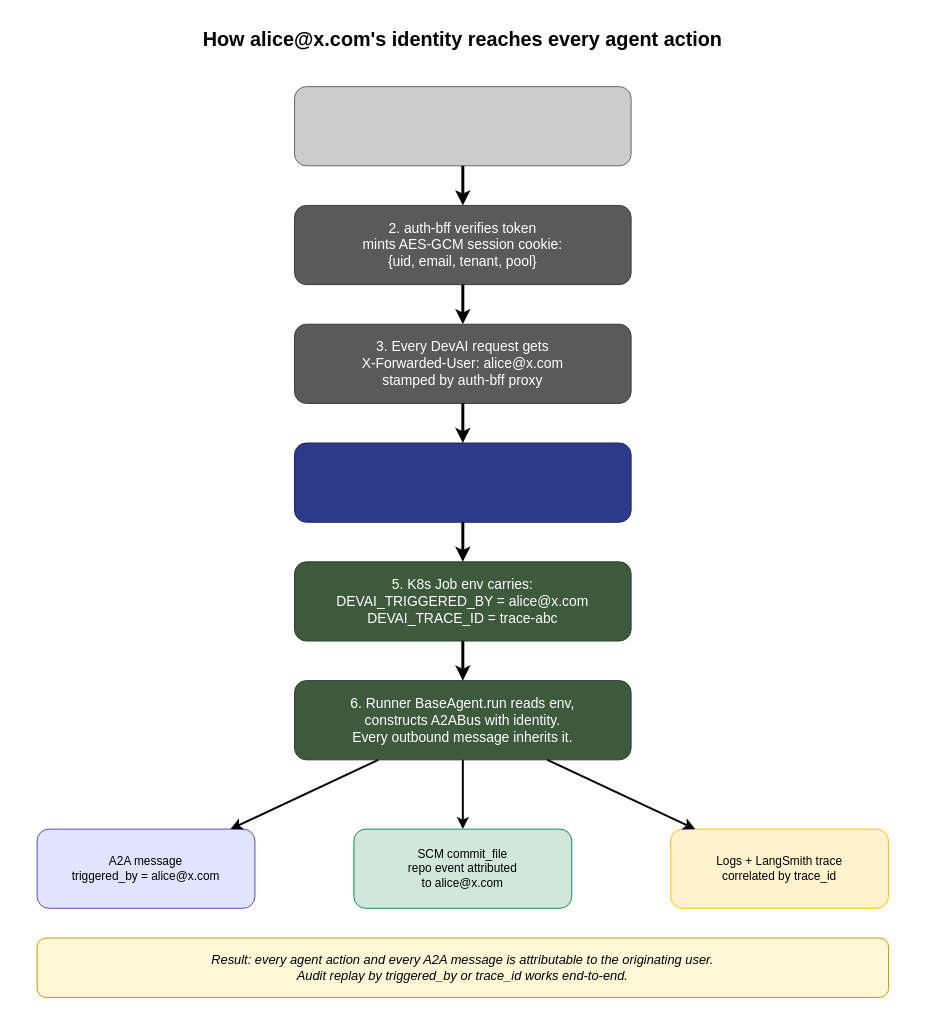
The diagram is 925 pixels wide and 1015 high, and some of its shapes have lost their labels. The shapes that lost their labels are listed below. From the top down, each one's centre as x and y in pixels, then its label:
At (462,126): "1. alice@x.com signs in Google or Keycloak OAuth → ID token".
At (462,482): "4. DevAI extract_principal() builds Principal stamps onto ALMState + DevAITask".
